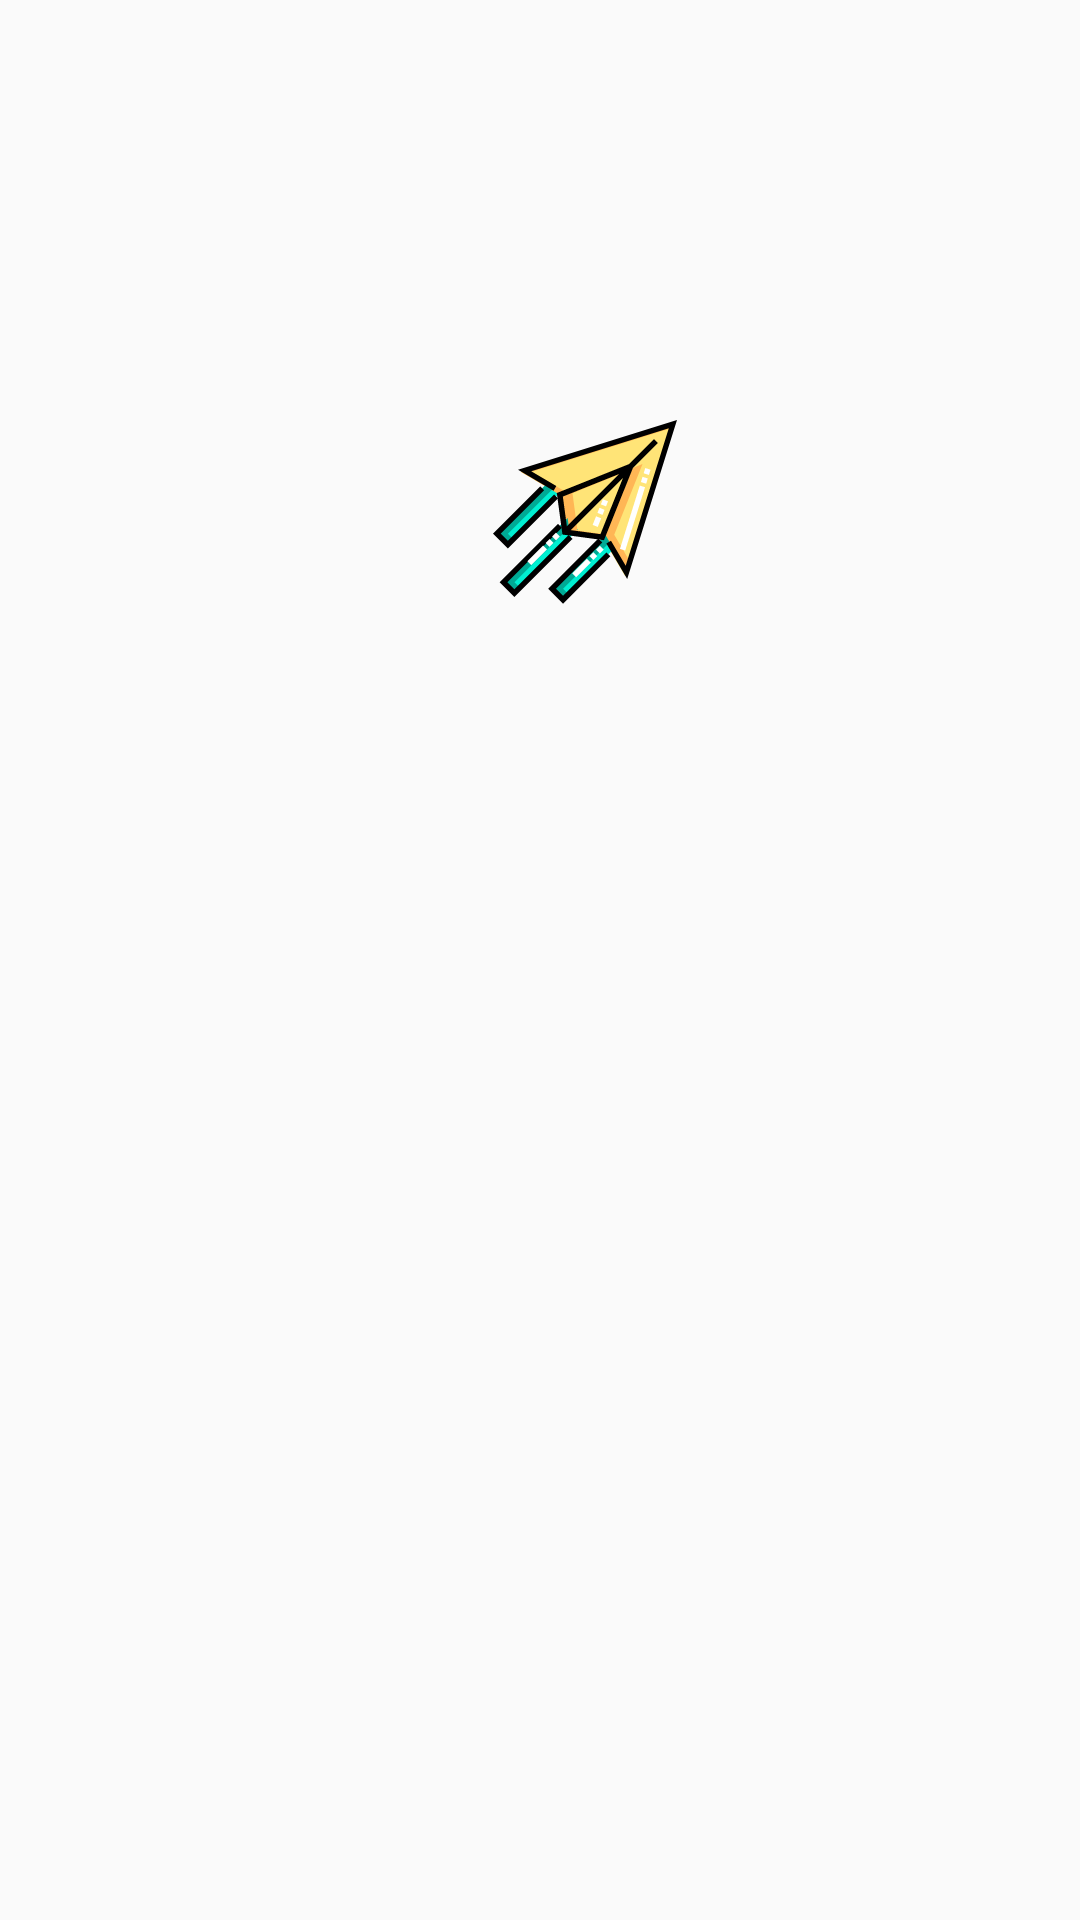

Where to tap for icons on this 1080*1920 app screen, as (x,y):
sent: (585,512)
